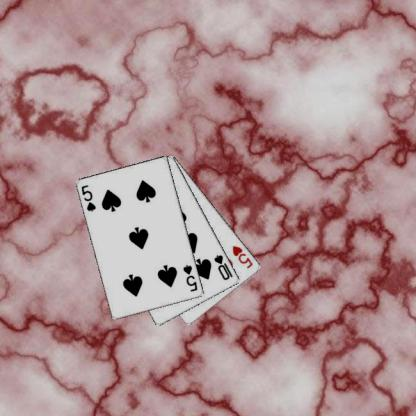10S: (211, 252, 234, 282)
5H: (230, 243, 254, 270)
5S: (181, 263, 199, 293), (79, 183, 97, 213)
